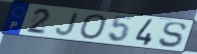2: (25, 8, 52, 36)
4: (134, 18, 154, 47)
5: (108, 16, 135, 44)
J: (54, 12, 80, 37)
O: (78, 13, 108, 41)
S: (158, 22, 188, 49)
